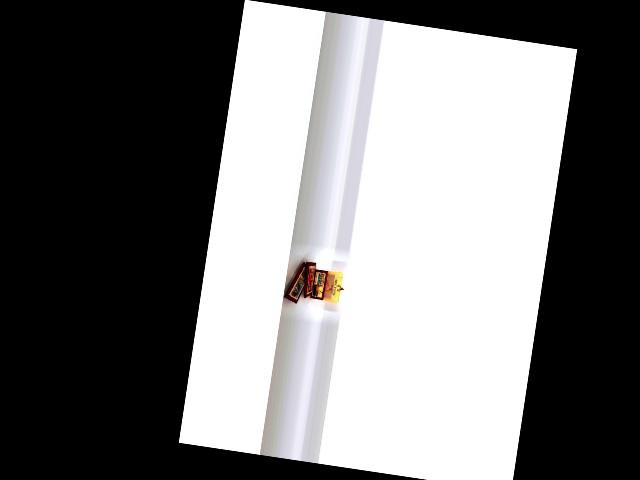chocolate: (278, 257, 311, 313)
